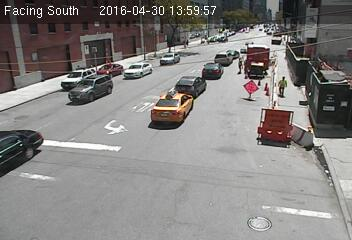neg: (194, 27, 206, 44), (191, 70, 202, 84), (119, 57, 129, 71)
pos: (272, 71, 292, 98), (233, 56, 246, 73)
